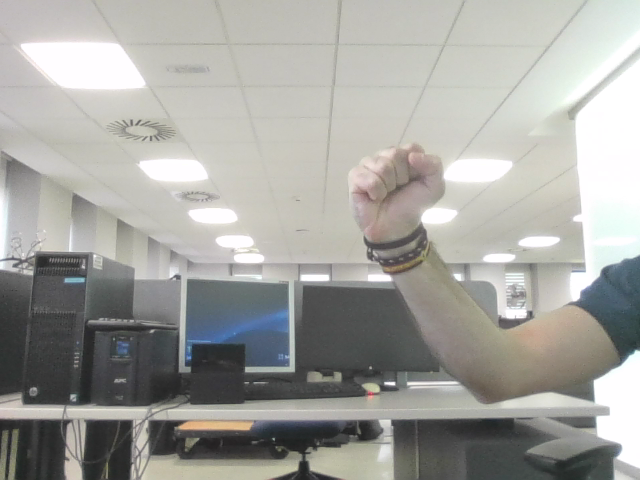Puño: (358, 151, 428, 210)
